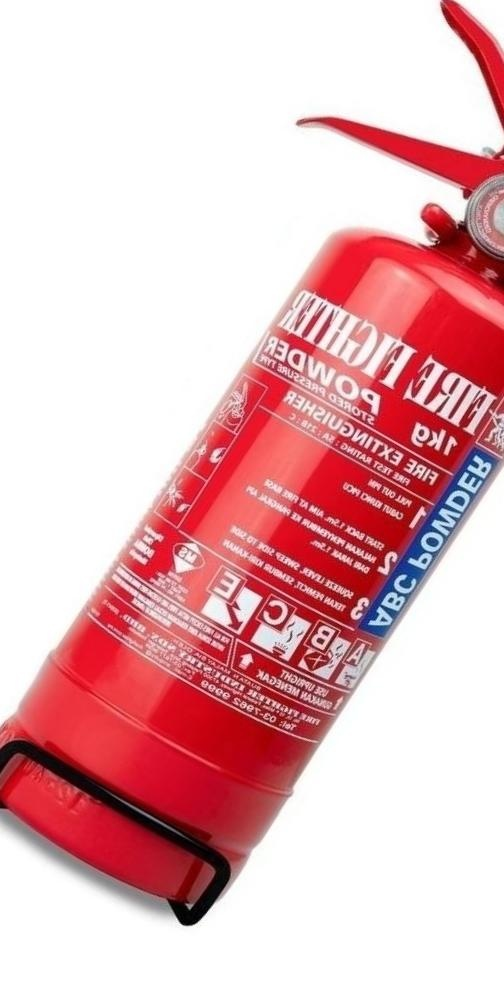fire_extinguisher: (1, 1, 503, 926)
